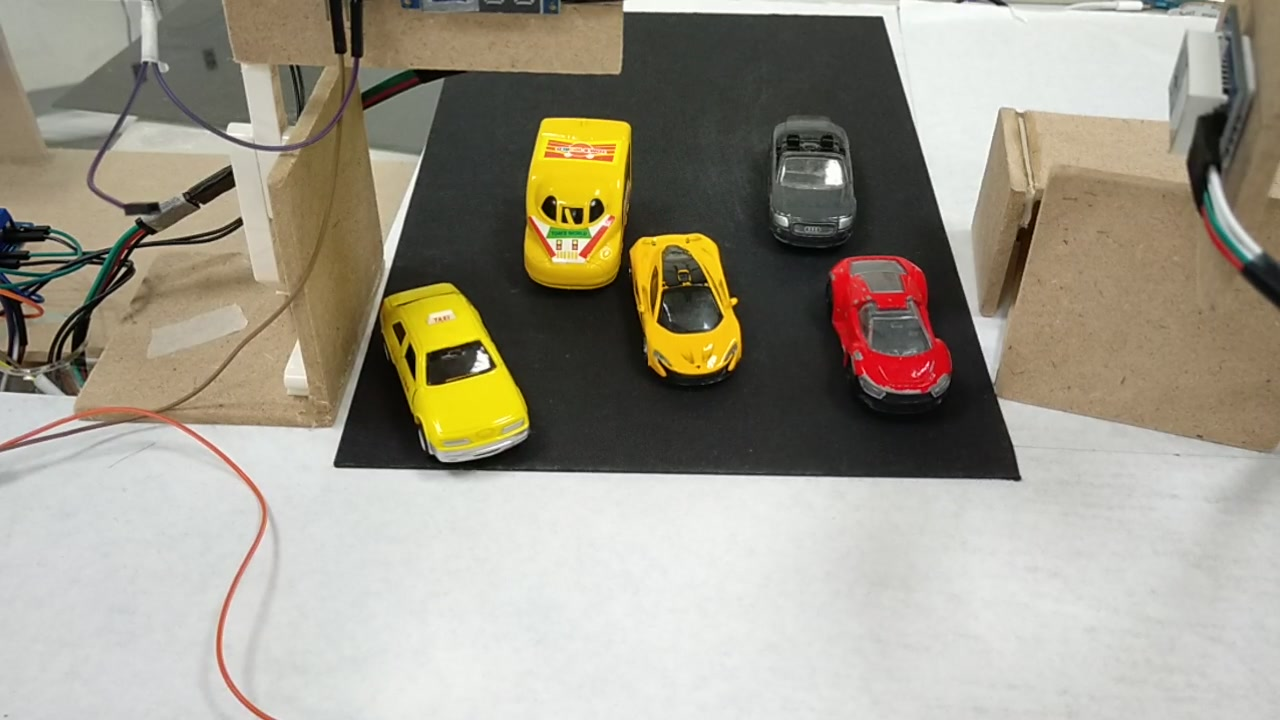car: (377, 287, 532, 470), (826, 252, 958, 410), (627, 233, 742, 384), (767, 115, 856, 250)
